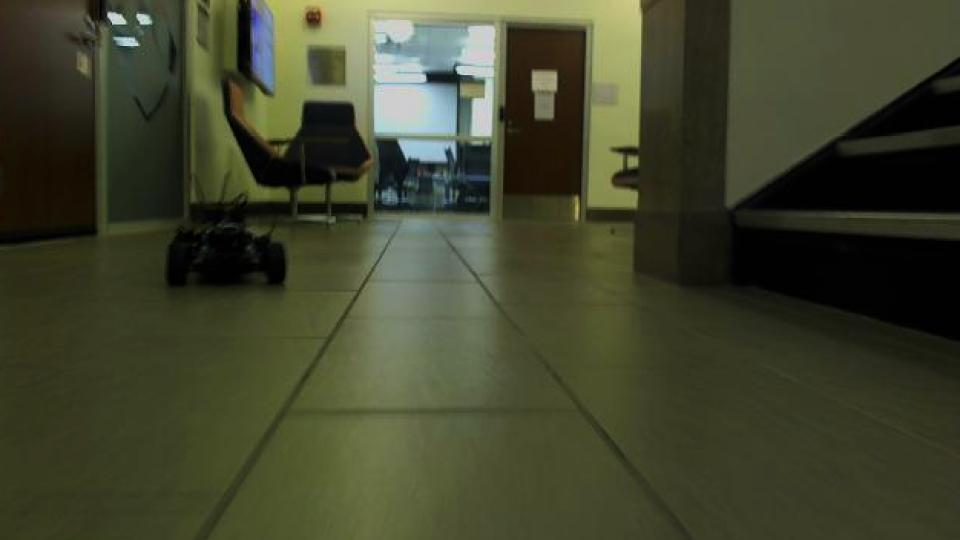car: (159, 170, 290, 290)
